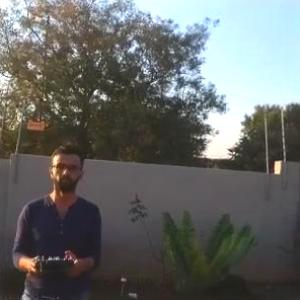follow: (7, 140, 104, 299)
